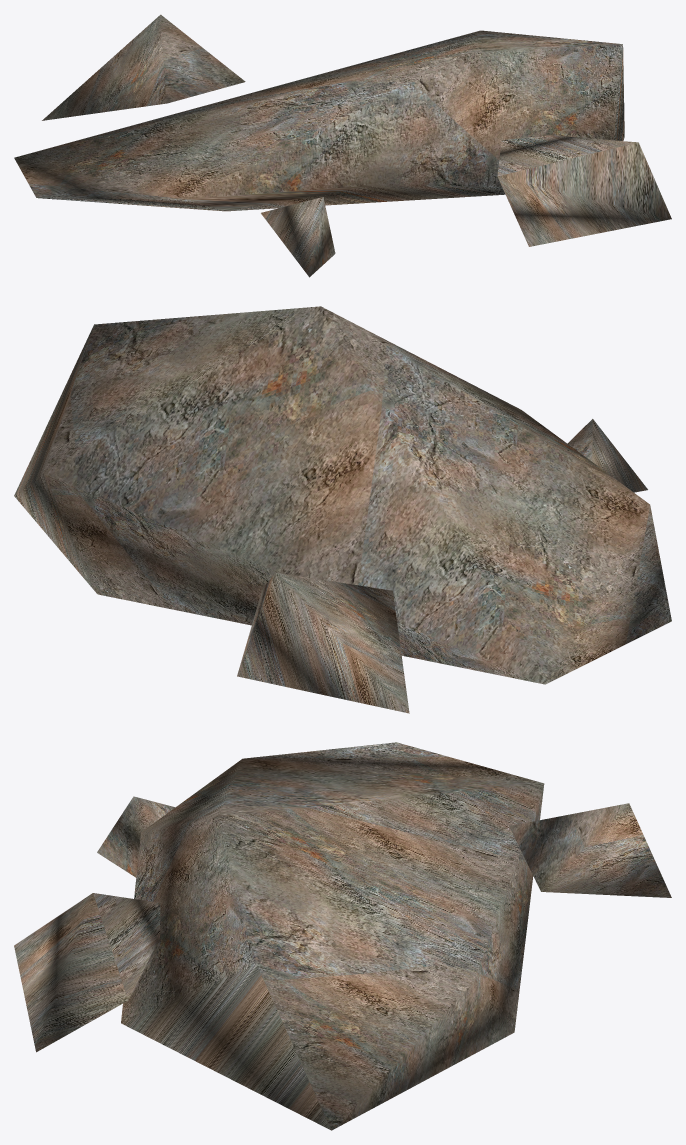
Rendered from rock_forestrockcluster_l4.fbx.
3 renders of one model, top to bottom at view 1: azimuth 30°, elevation 25°; view 2: azimuth 150°, elevation 25°; view 3: azimuth 270°, elevation 25°, orthographic. The views are drawn at different scales.
Parts seen in each view (by area): view 1: mesh_node; view 2: mesh_node; view 3: mesh_node.
Part boxes in pixels (x1=…): mesh_node: x1=14, y1=14, x2=671, y2=277; mesh_node: x1=14, y1=306, x2=671, y2=713; mesh_node: x1=14, y1=742, x2=671, y2=1130.
Size of the model in its own units: 4.45 by 1.27 by 3.83.
